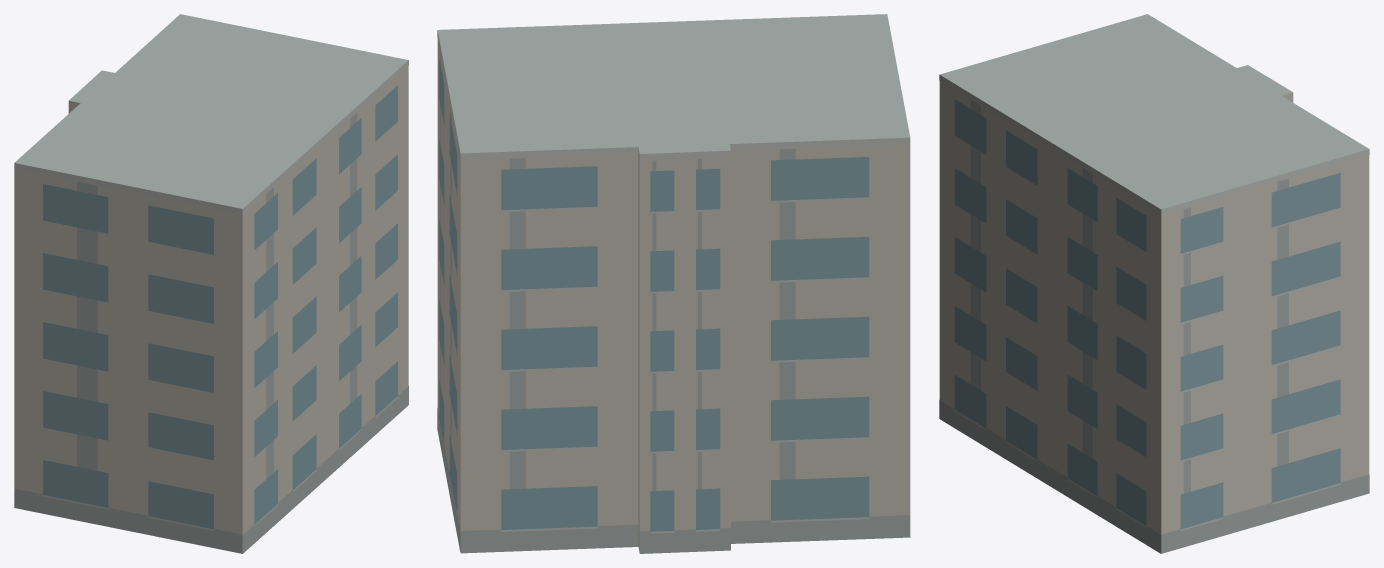
The model's file is survey-upis-32800447.glb.
3 renders of one model, left to right at view 1: azimuth 30°, elevation 25°; view 2: azimuth 150°, elevation 25°; view 3: azimuth 270°, elevation 25°, orthographic. The views are drawn at different scales.
Visible parts, largest first — view 1: survey-upis-32800447.tmp; view 2: survey-upis-32800447.tmp; view 3: survey-upis-32800447.tmp.
Part boxes in pixels (left/top/right/bottom): survey-upis-32800447.tmp: left=14, top=14, right=408, bottom=553; survey-upis-32800447.tmp: left=437, top=14, right=910, bottom=553; survey-upis-32800447.tmp: left=939, top=14, right=1369, bottom=553.
Size of the model in its own units: 16.93 by 13.9 by 15.74.
